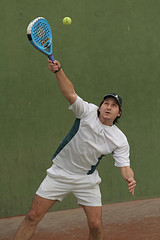tennis ball: (62, 17, 71, 26)
